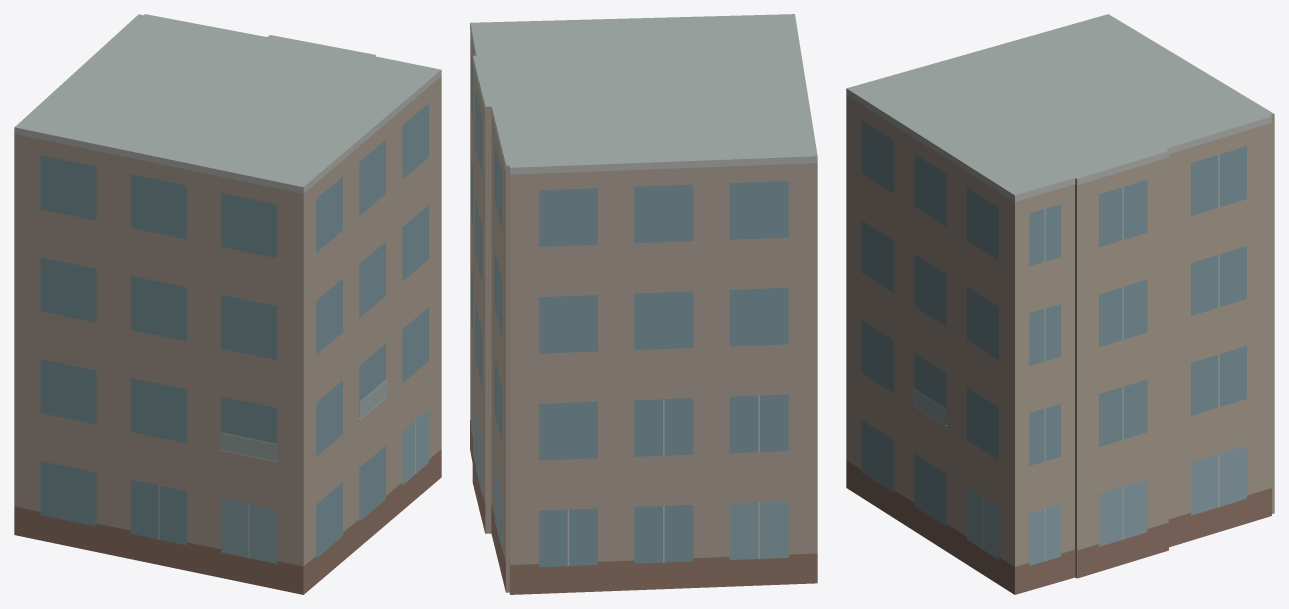
Rendered from survey-upis-32780034.glb.
3 renders of one model, left to right at view 1: azimuth 30°, elevation 25°; view 2: azimuth 150°, elevation 25°; view 3: azimuth 270°, elevation 25°, orthographic. The views are drawn at different scales.
Parts seen in each view (by area): view 1: survey-upis-32780034.tmp; view 2: survey-upis-32780034.tmp; view 3: survey-upis-32780034.tmp.
Part boxes in pixels (bbox=[...]): survey-upis-32780034.tmp: bbox=[14, 14, 441, 594]; survey-upis-32780034.tmp: bbox=[470, 14, 817, 594]; survey-upis-32780034.tmp: bbox=[846, 14, 1274, 594].
Bounding box in the file's own units: 14.83 × 15.22 × 14.79.
